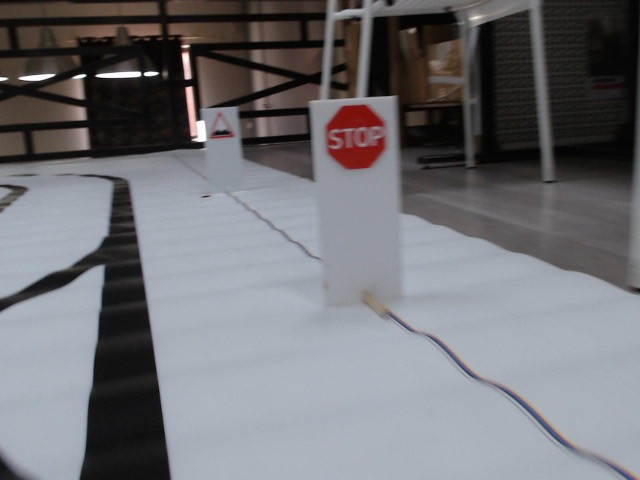Nerov: (209, 111, 234, 139)
Stop: (323, 105, 388, 169)
